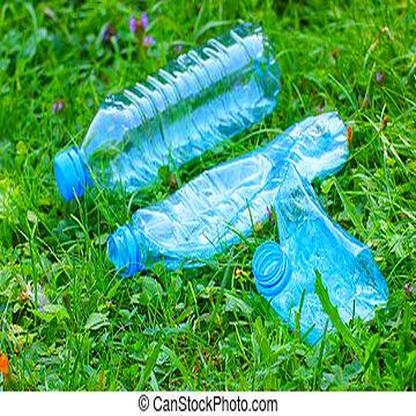plastic bottle: (47, 23, 280, 197), (104, 113, 349, 271), (260, 166, 386, 330)
